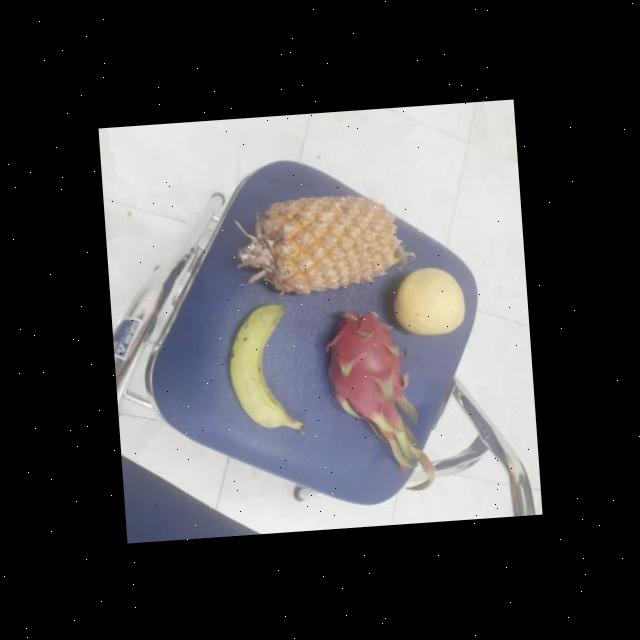banana: (225, 304, 304, 438)
pear: (391, 260, 466, 340)
pineapple: (254, 191, 403, 302)
pitaya: (320, 304, 412, 444)
